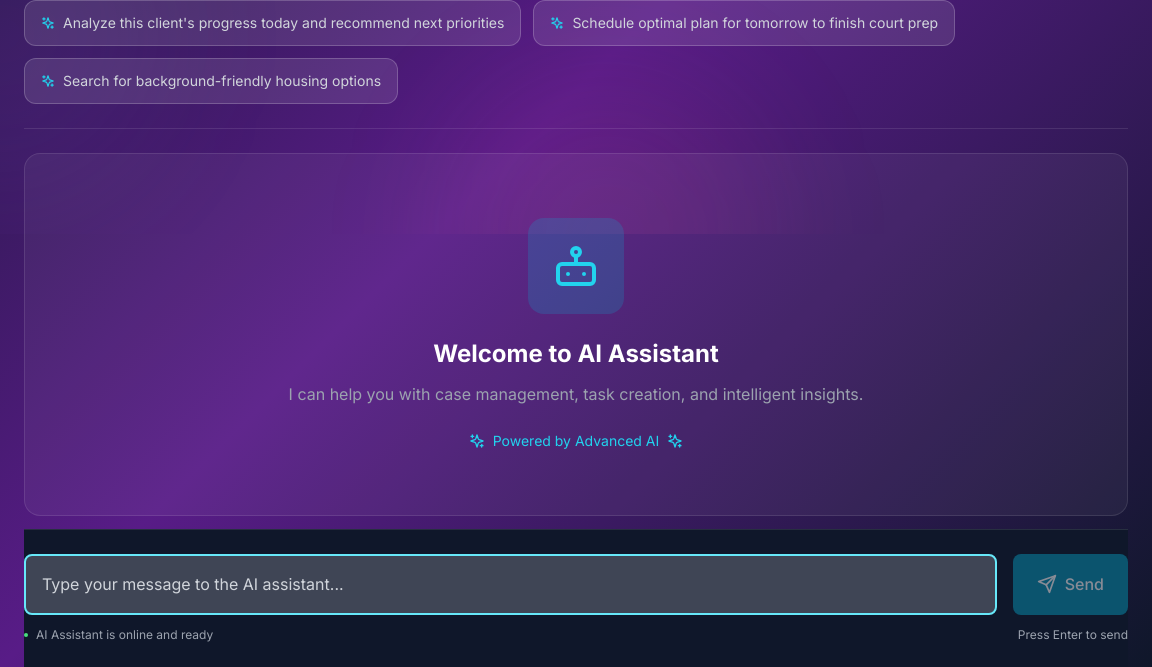
Test: AIChat › clears loading and shows the backend error when the AI request fails
The image size is (1152, 667).
(page scrolled)
In the field with placeholder "Type your message to the AI assistant...": (510, 584) [24,554,997,615], type "What should I follow up on?"
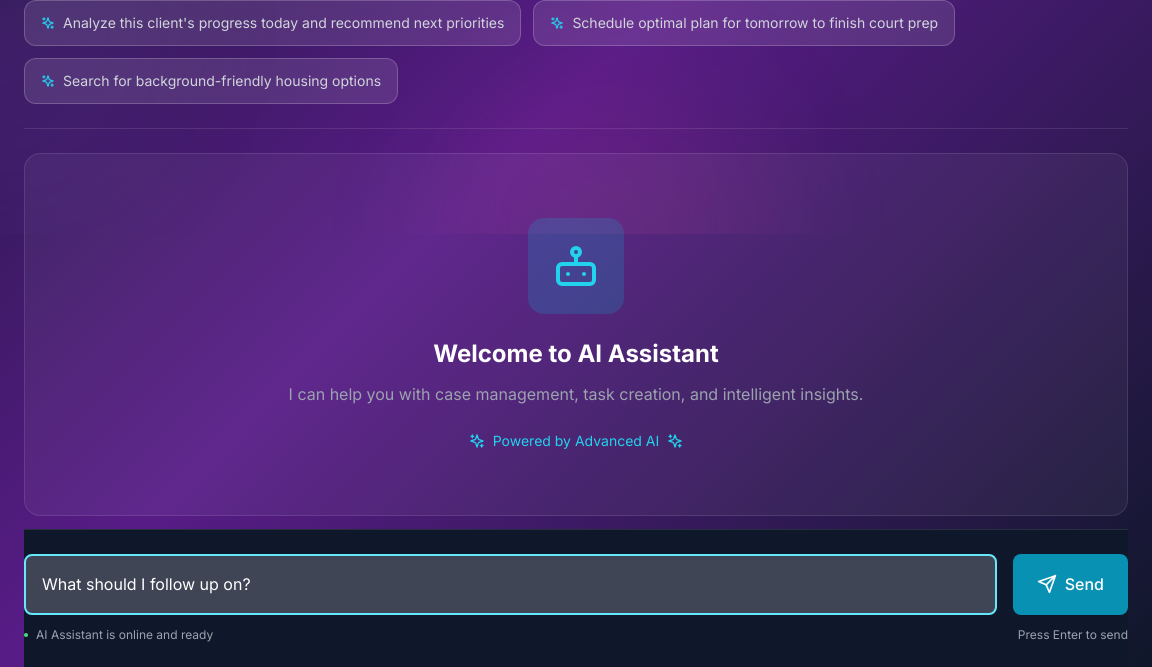
Click the button "Send": (1070, 584) [1013,554,1128,615]
(page scrolled)
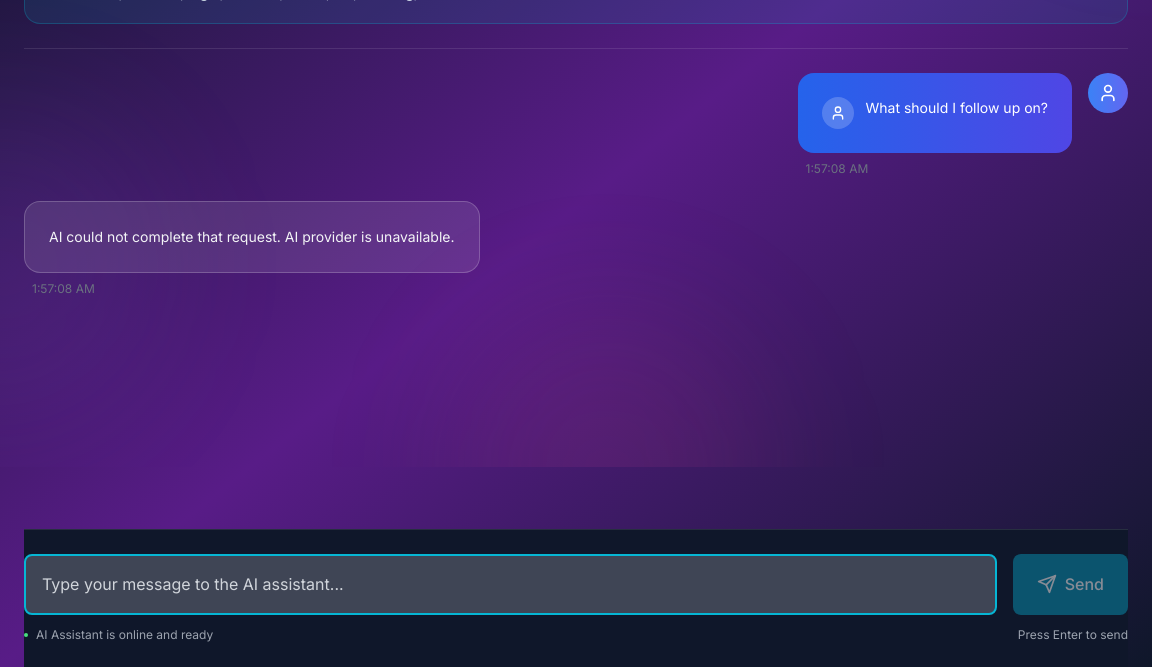
Check: the field with placeholder "Type your message to the AI assistant..." is enabled, box [24,554,997,615]
Check: the text "AI provider is unavailable" is shown, box [49,228,454,245]
